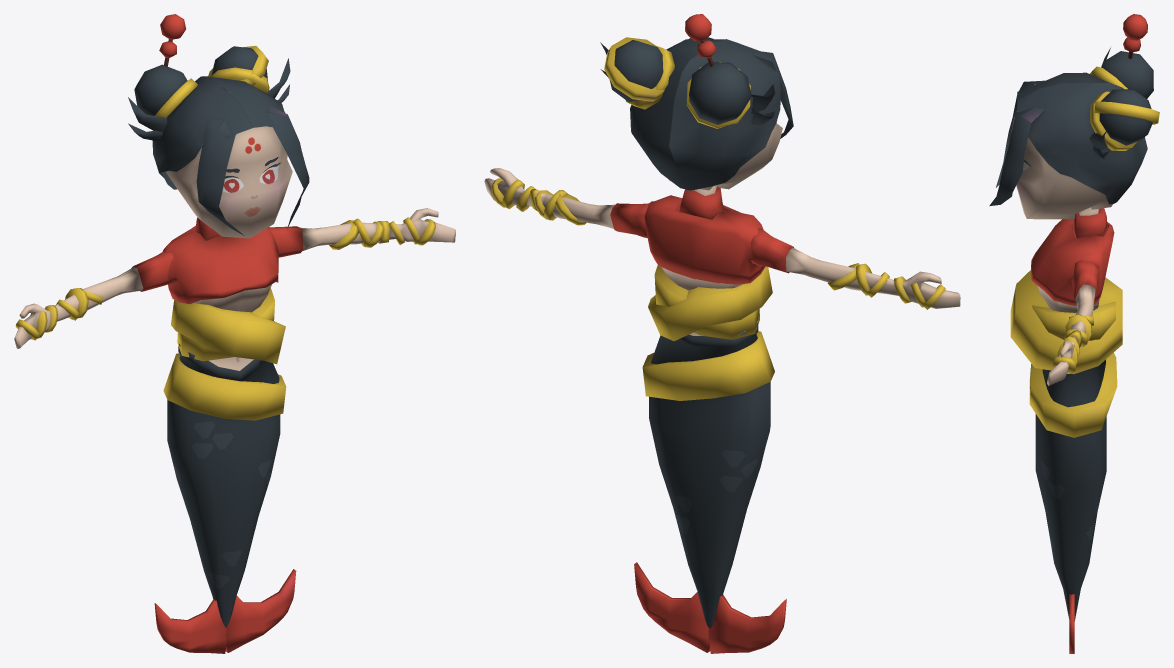
The model's file is Nuyu_Final.fbx.
3 views of the same model, side by side, from view 1: azimuth 30°, elevation 25°; view 2: azimuth 150°, elevation 25°; view 3: azimuth 270°, elevation 25° (orthographic). The views are drawn at different scales.
Visible parts, largest first — view 1: MH_Cuerpo002; view 2: MH_Cuerpo002; view 3: MH_Cuerpo002.
Boxes of the visible parts, <box> form: MH_Cuerpo002: <box>14,14,455,653</box>; MH_Cuerpo002: <box>484,14,960,653</box>; MH_Cuerpo002: <box>989,14,1159,653</box>.
Bounding box in the file's own units: 94.98 × 127 × 31.79.
1 material, 1 textured.
